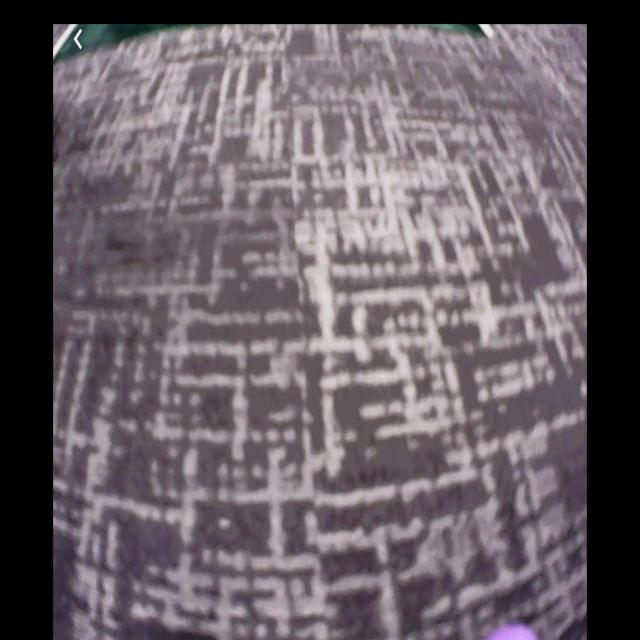ball: (485, 623, 543, 640)
